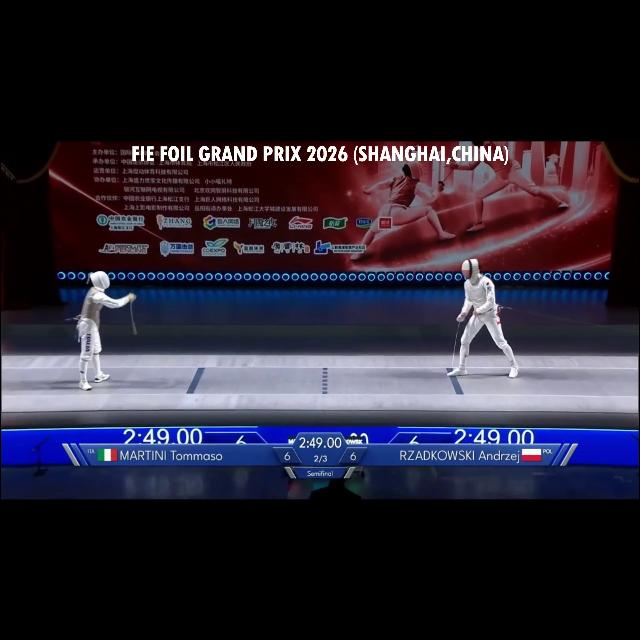blade: (446, 312, 468, 376), (128, 292, 142, 336)
